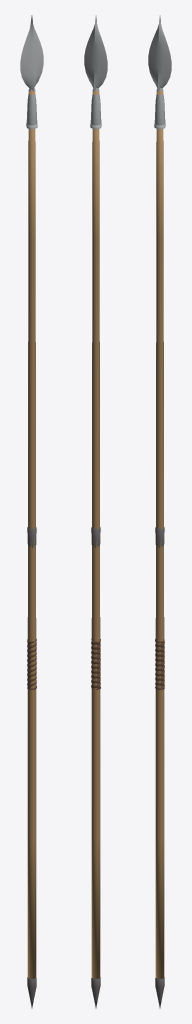
The model's file is sarissa.glb.
3 views of the same model, side by side, from view 1: azimuth 30°, elevation 25°; view 2: azimuth 150°, elevation 25°; view 3: azimuth 330°, elevation 25° (orthographic).
Parts seen in each view (by area): view 1: sarissa; view 2: sarissa; view 3: sarissa.
Part boxes in pixels (x1,y1,x2,y2): sarissa: [20, 15, 43, 1008]; sarissa: [84, 15, 107, 1008]; sarissa: [148, 15, 171, 1008].
Size of the model in its own units: 0.2302 by 9.33 by 0.0991.
